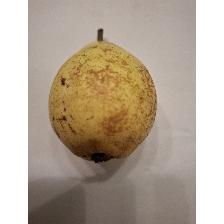Birne: (46, 27, 160, 165)
